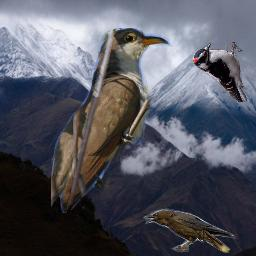Crow: (143, 208, 236, 253)
Cuckoo: (51, 28, 198, 213)
Woodpecker: (192, 42, 247, 102)
